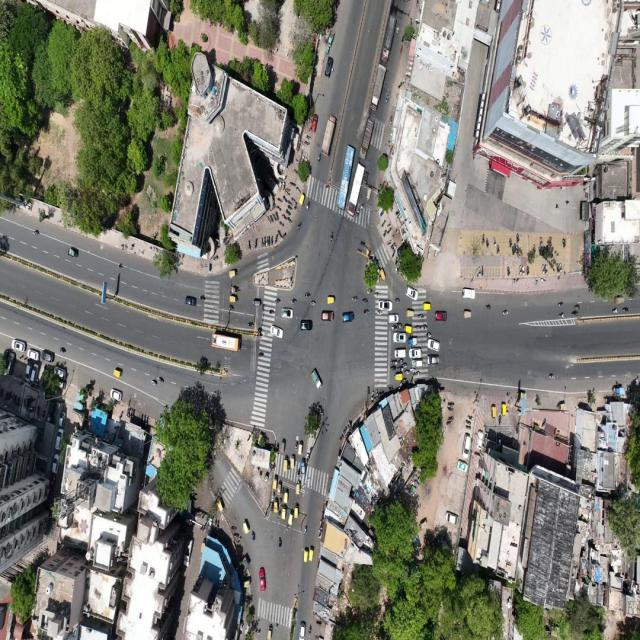3W: (66, 246, 80, 261), (326, 292, 337, 306), (112, 365, 122, 379), (229, 267, 239, 280), (228, 293, 238, 305), (556, 401, 568, 411), (217, 497, 224, 513), (309, 544, 314, 564), (489, 405, 496, 419), (267, 624, 273, 640), (299, 191, 305, 207), (283, 455, 288, 474), (243, 519, 249, 534), (423, 302, 432, 312), (295, 483, 301, 496), (463, 312, 472, 320), (280, 440, 286, 452), (520, 391, 527, 401), (294, 504, 299, 518), (288, 510, 293, 524), (304, 546, 308, 563), (501, 404, 506, 417), (406, 310, 414, 318), (282, 506, 286, 521), (291, 456, 295, 471), (299, 436, 302, 456), (284, 488, 288, 502), (381, 266, 385, 280), (274, 502, 278, 514), (367, 189, 371, 200), (244, 581, 250, 587), (274, 476, 276, 491), (395, 375, 402, 379), (308, 564, 310, 565)
Bus: (209, 331, 244, 354), (321, 114, 336, 154), (614, 297, 626, 303)
Cars: (337, 144, 355, 208), (310, 363, 324, 393), (1, 352, 16, 374), (442, 511, 461, 527), (11, 336, 27, 353), (320, 308, 335, 325), (28, 344, 41, 363), (184, 291, 197, 310), (462, 436, 473, 458), (258, 565, 266, 595), (434, 309, 448, 324), (55, 428, 64, 451), (324, 58, 334, 78), (42, 348, 55, 363), (110, 388, 123, 401), (57, 410, 67, 426), (428, 339, 440, 352), (342, 312, 355, 324), (271, 326, 283, 339), (476, 430, 483, 452), (52, 454, 59, 476), (380, 300, 392, 312), (300, 319, 313, 330), (55, 367, 66, 380), (32, 363, 38, 385), (427, 355, 439, 366), (462, 290, 475, 300), (300, 619, 306, 640), (311, 112, 318, 130), (612, 386, 626, 394), (394, 349, 406, 358), (394, 334, 406, 342), (282, 310, 294, 318), (410, 349, 421, 357), (412, 360, 423, 368), (278, 475, 281, 502), (267, 624, 272, 640), (388, 314, 398, 322), (26, 362, 30, 381), (253, 299, 261, 306), (301, 460, 305, 473)
M2W: (406, 286, 418, 301), (231, 281, 240, 297), (32, 228, 42, 239), (557, 300, 566, 310), (59, 346, 67, 357), (502, 309, 511, 318), (150, 378, 158, 388), (351, 293, 359, 303), (557, 312, 565, 321), (549, 373, 556, 383), (610, 308, 620, 315), (278, 219, 284, 229), (308, 623, 312, 637), (622, 308, 631, 314), (570, 312, 579, 318), (303, 291, 312, 297), (252, 529, 256, 542), (277, 228, 282, 238), (158, 376, 165, 383), (465, 418, 472, 425), (485, 303, 492, 310), (498, 416, 502, 428), (316, 619, 322, 627), (304, 524, 308, 536), (514, 243, 518, 255), (421, 324, 427, 332), (257, 352, 265, 358), (295, 437, 298, 452), (279, 535, 282, 549), (271, 500, 274, 514), (311, 299, 317, 306), (362, 297, 368, 304), (413, 371, 420, 377), (426, 333, 432, 340), (395, 298, 401, 305), (380, 220, 386, 227), (446, 418, 454, 423), (296, 185, 301, 193), (448, 406, 454, 412), (574, 304, 580, 310), (507, 265, 510, 277), (545, 264, 548, 276), (540, 277, 546, 283), (374, 290, 380, 296), (330, 232, 334, 241), (267, 235, 270, 247), (266, 216, 270, 225), (248, 322, 254, 328), (269, 308, 275, 314), (292, 298, 298, 304), (364, 308, 369, 315), (306, 133, 311, 140), (297, 224, 302, 231), (293, 168, 298, 175), (276, 211, 279, 222), (405, 368, 409, 376), (317, 154, 321, 162), (233, 532, 239, 537), (478, 266, 481, 276), (509, 236, 512, 246), (376, 310, 381, 316), (391, 366, 397, 371), (416, 325, 421, 331), (382, 231, 387, 237), (307, 200, 310, 210), (248, 240, 251, 250), (275, 233, 278, 243), (282, 233, 287, 239), (468, 413, 472, 420), (448, 401, 455, 405), (272, 492, 276, 499), (482, 264, 484, 278), (283, 196, 287, 203), (288, 218, 292, 225), (486, 239, 489, 248), (517, 233, 520, 242), (273, 213, 276, 222), (278, 508, 280, 521), (255, 237, 257, 250), (466, 425, 471, 430), (276, 205, 281, 210), (286, 211, 291, 216), (200, 298, 206, 302), (282, 485, 284, 497), (482, 234, 484, 246), (512, 244, 514, 256), (368, 288, 372, 294), (264, 236, 266, 248), (277, 198, 283, 202), (270, 215, 273, 223), (283, 214, 287, 220), (292, 198, 296, 204), (512, 246, 514, 257), (387, 220, 390, 227), (289, 200, 292, 207), (232, 525, 236, 530), (527, 264, 529, 274), (362, 202, 364, 212), (356, 209, 358, 219), (260, 237, 262, 247), (270, 236, 272, 246), (290, 182, 295, 186), (494, 237, 496, 246), (542, 265, 544, 274), (540, 237, 542, 246), (392, 362, 398, 365), (402, 364, 408, 367), (296, 158, 299, 164), (276, 300, 282, 303), (419, 314, 423, 318), (388, 242, 392, 246), (288, 207, 292, 211), (398, 368, 403, 371), (285, 188, 290, 191), (498, 245, 500, 252), (533, 247, 535, 254), (398, 361, 404, 363), (388, 229, 391, 233), (286, 192, 289, 196), (266, 237, 267, 247), (507, 267, 507, 273)
Truck: (347, 161, 364, 215), (381, 12, 397, 63), (371, 64, 386, 109), (360, 114, 374, 159)
